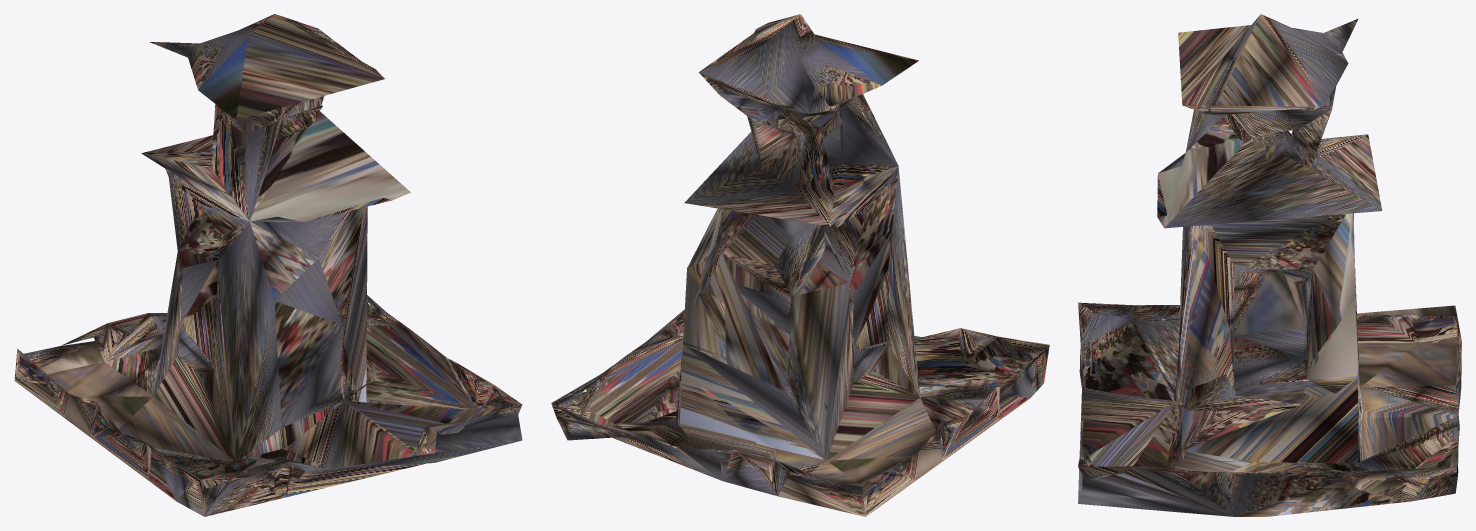
The model's file is Ornate_Watchtower.glb.
3 views of the same model, side by side, from view 1: azimuth 30°, elevation 25°; view 2: azimuth 150°, elevation 25°; view 3: azimuth 270°, elevation 25° (orthographic). The views are drawn at different scales.
Parts seen in each view (by area): view 1: Ornate_Watchtower; view 2: Ornate_Watchtower; view 3: Ornate_Watchtower.
Boxes of the visible parts, x1,y1,x2,y2 form: Ornate_Watchtower: (14, 14, 522, 516); Ornate_Watchtower: (551, 14, 1049, 516); Ornate_Watchtower: (1078, 14, 1461, 516).
Bounding box in the file's own units: 1.62 × 1.77 × 1.49.
Materials: 1 (1 with a texture image).
